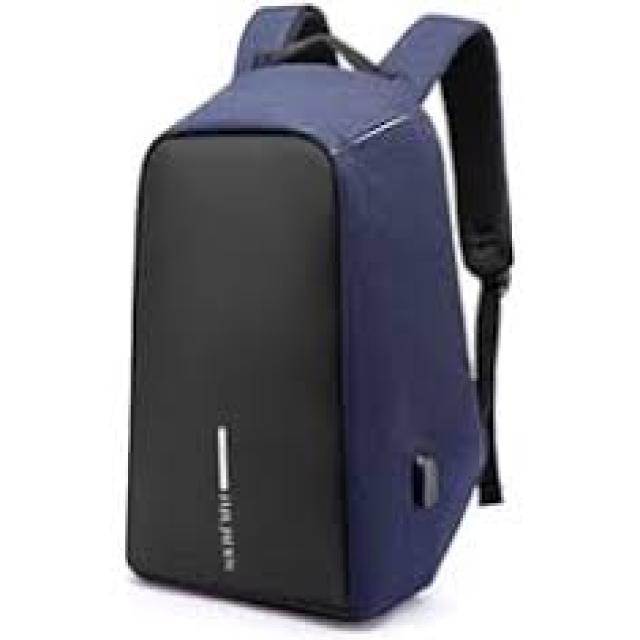backpack: (124, 1, 513, 623)
